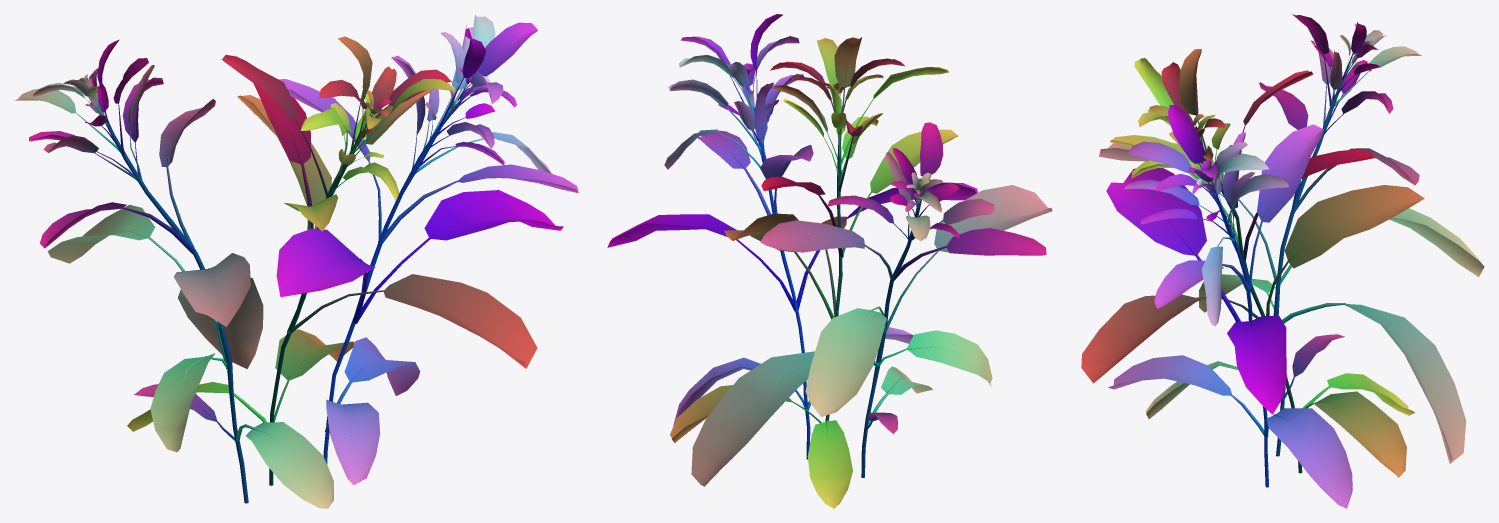
Rendered from Sage_ve3gbfoja_Mid_ve3gbfoja_VarC_LOD0.fbx.
The picture shows the model from 3 angles, left to right: view 1: azimuth 30°, elevation 25°; view 2: azimuth 150°, elevation 25°; view 3: azimuth 270°, elevation 25°; orthographic projection. The views are drawn at different scales.
Parts seen in each view (by area): view 1: _djga_VarC_LOD1; view 2: _djga_VarC_LOD1; view 3: _djga_VarC_LOD1.
Part boxes in pixels (left/top/right/bottom): _djga_VarC_LOD1: left=15, top=14, right=578, bottom=508; _djga_VarC_LOD1: left=607, top=14, right=1052, bottom=508; _djga_VarC_LOD1: left=1081, top=14, right=1484, bottom=508.
Size of the model in its own units: 78.49 by 69.54 by 59.31.
